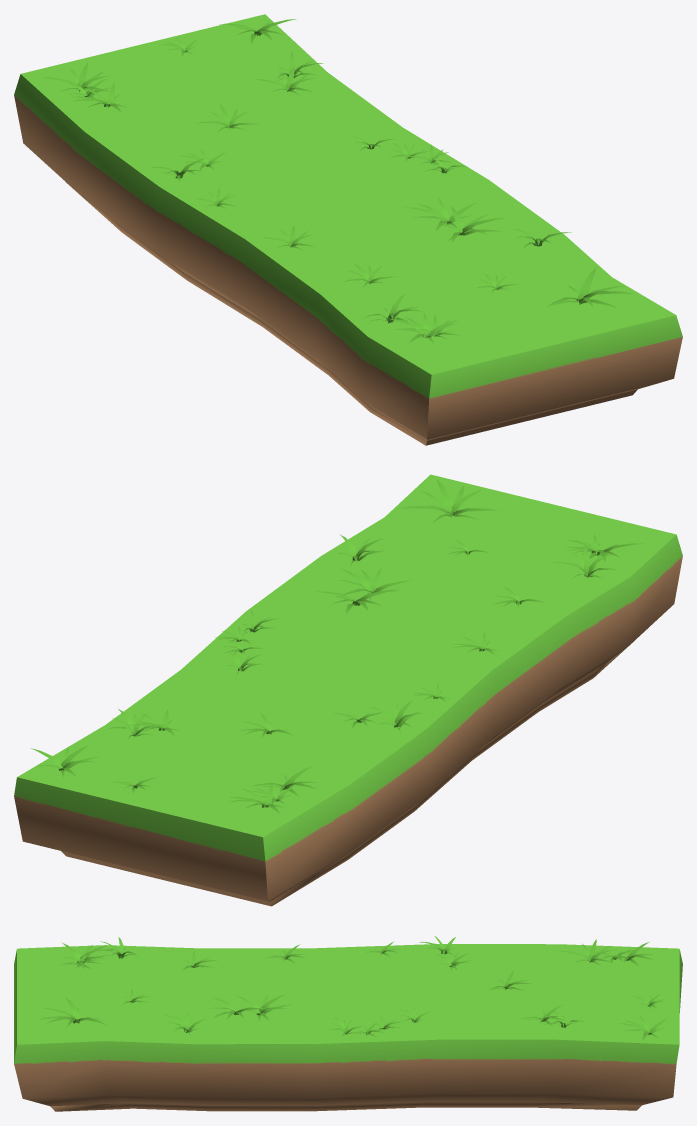
Rendered from Fix_Floor.fbx.
The picture shows the model from 3 angles, top to bottom: view 1: azimuth 30°, elevation 25°; view 2: azimuth 150°, elevation 25°; view 3: azimuth 270°, elevation 25°; orthographic projection. The views are drawn at different scales.
Parts seen in each view (by area): view 1: Road, Road3, Road2; view 2: Road, Road3, Road2; view 3: Road, Road3, Road2.
Part boxes in pixels (bbox=[...]): Road: bbox=[14, 14, 682, 445]; Road3: bbox=[68, 19, 633, 343]; Road2: bbox=[70, 38, 519, 339]; Road: bbox=[14, 474, 682, 906]; Road3: bbox=[31, 479, 643, 804]; Road2: bbox=[112, 534, 612, 797]; Road: bbox=[14, 936, 682, 1111]; Road3: bbox=[38, 941, 667, 1039]; Road2: bbox=[60, 939, 665, 1037].
Size of the model in its own units: 228 by 87.92 by 606.
Materials: 1 (1 with a texture image).
